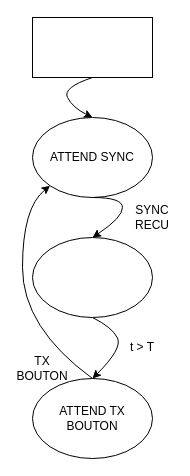
This 190x476 diagram has some shape labels left out. The box of each missing label's shape, as (x1, y1, x2, y2) in pixels:
ATTEND T: (32, 236, 152, 318)
INIT BBB1: (32, 16, 152, 78)
